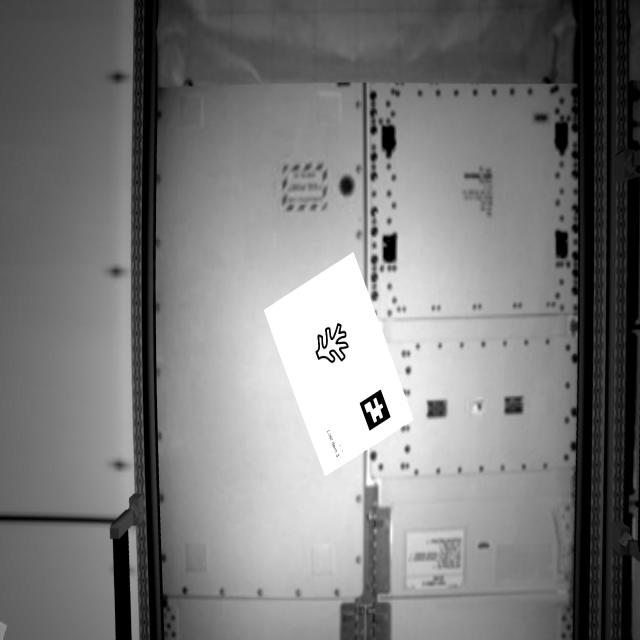coral: (310, 320, 355, 369)
